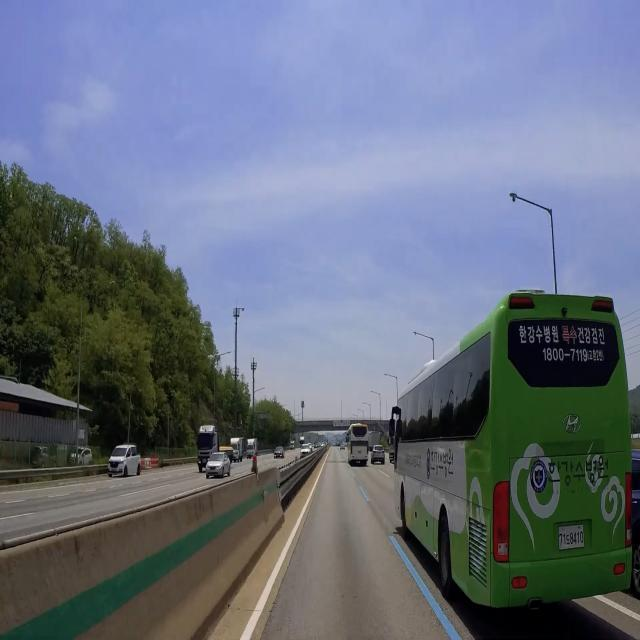car: (554, 519, 590, 554)
